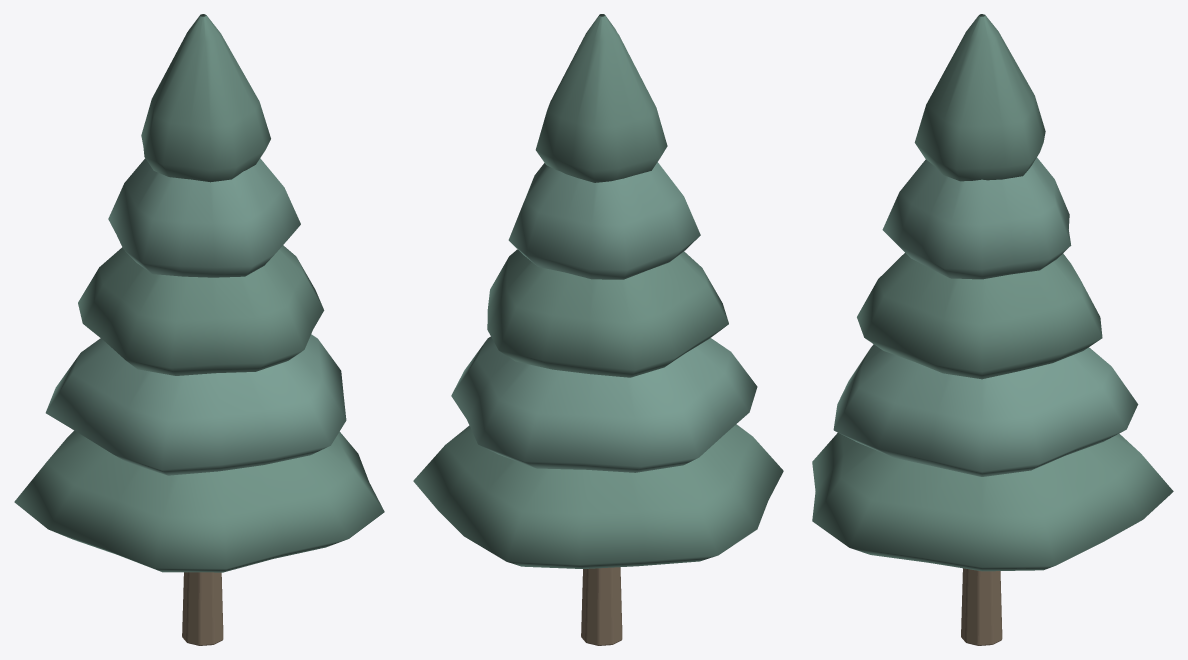
File: SM_Fir_1_UV10816.fbx
The picture shows the model from 3 angles, left to right: view 1: azimuth 30°, elevation 25°; view 2: azimuth 150°, elevation 25°; view 3: azimuth 270°, elevation 25°; orthographic projection.
Visible parts, largest first — view 1: SM_Fir_1_UV10816; view 2: SM_Fir_1_UV10816; view 3: SM_Fir_1_UV10816.
Boxes of the visible parts, bbox=[...] form: SM_Fir_1_UV10816: bbox=[14, 14, 384, 645]; SM_Fir_1_UV10816: bbox=[413, 14, 783, 645]; SM_Fir_1_UV10816: bbox=[812, 14, 1173, 645].
Size of the model in its own units: 600 by 606 by 1150.
